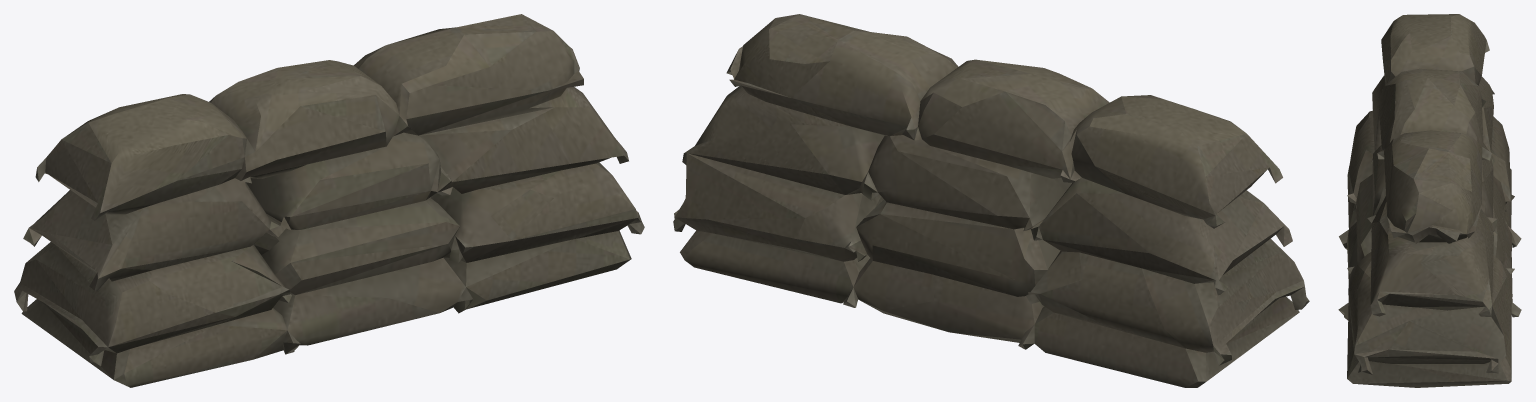
The model's file is sandbags.glb.
The picture shows the model from 3 angles, left to right: view 1: azimuth 30°, elevation 25°; view 2: azimuth 150°, elevation 25°; view 3: azimuth 270°, elevation 25°; orthographic projection. The views are drawn at different scales.
Visible parts, largest first — view 1: Mesh_0; view 2: Mesh_0; view 3: Mesh_0.
Boxes of the visible parts, x1,y1,x2,y2 form: Mesh_0: (14,14,644,387); Mesh_0: (673,14,1309,387); Mesh_0: (1338,14,1521,387).
Size of the model in its own units: 1.9 by 0.758 by 0.6485.
1 material, 1 textured.
